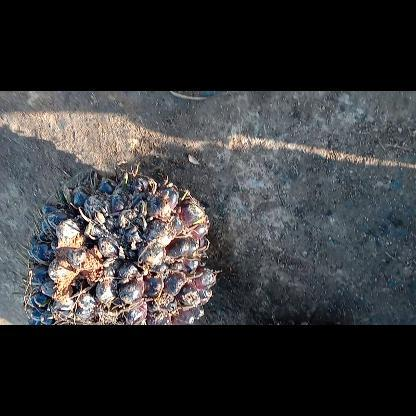TBS mentah: (17, 170, 220, 324)
